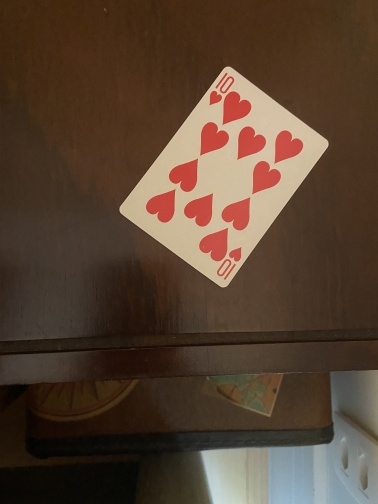ten: (118, 64, 330, 290)
